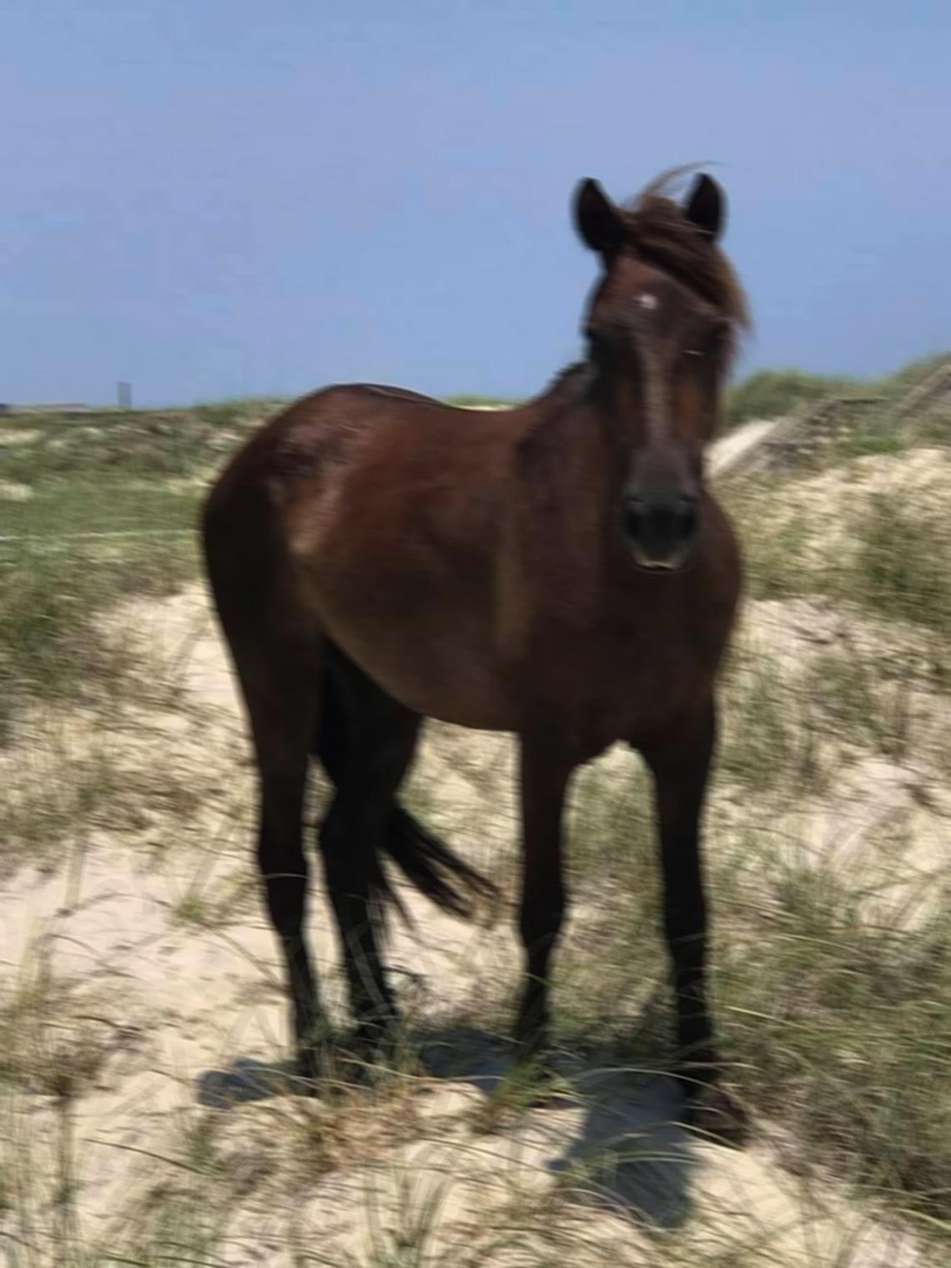horse: (178, 148, 774, 1153)
